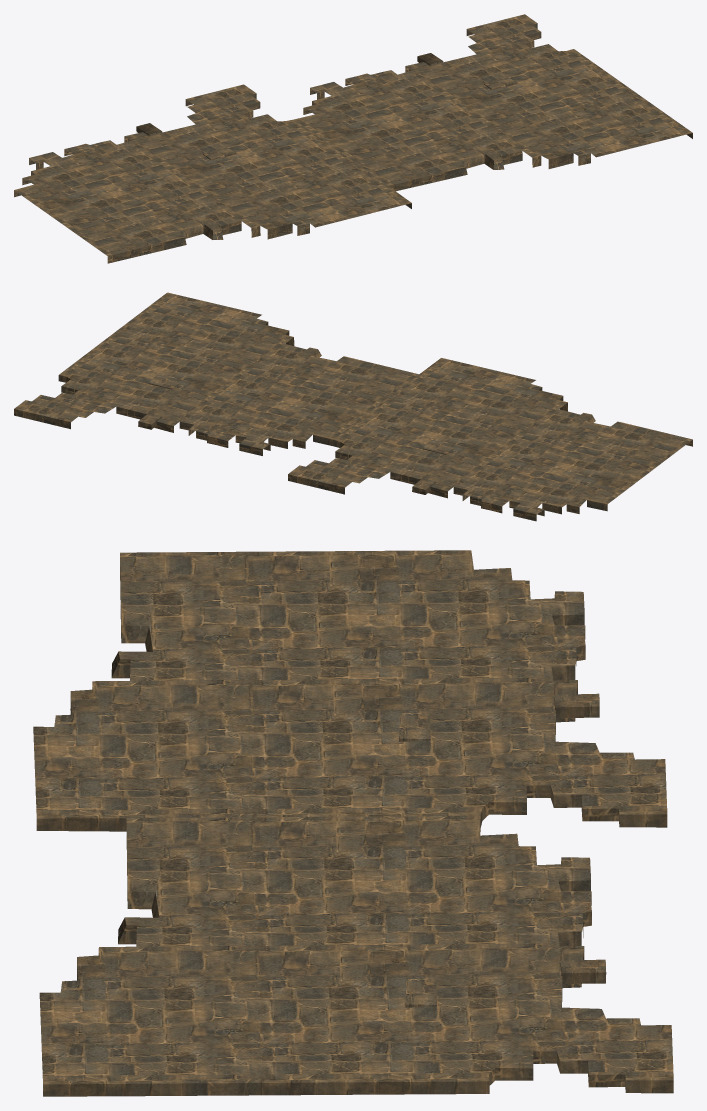
The picture shows the model from 3 angles, top to bottom: view 1: azimuth 30°, elevation 25°; view 2: azimuth 150°, elevation 25°; view 3: azimuth 270°, elevation 25°; orthographic projection. The views are drawn at different scales.
Parts seen in each view (by area): view 1: DM2; view 2: DM2; view 3: DM2.
Boxes of the visible parts, x1,y1,x2,y2 form: DM2: [14, 14, 692, 263]; DM2: [14, 292, 692, 521]; DM2: [33, 550, 673, 1096].
Bounding box in the file's own units: 56.27 × 1.08 × 28.52.
